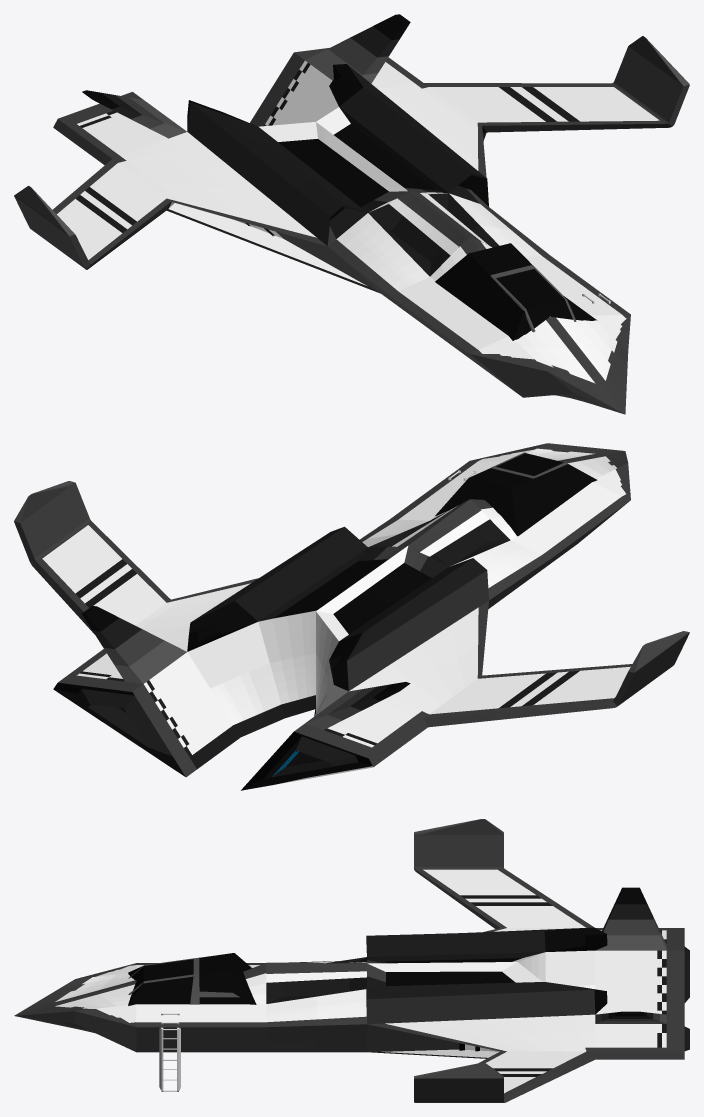
The model's file is Spaceship Textures.fbx.
3 views of the same model, one above another, from view 1: azimuth 30°, elevation 25°; view 2: azimuth 150°, elevation 25°; view 3: azimuth 270°, elevation 25° (orthographic). The views are drawn at different scales.
Parts seen in each view (by area): view 1: Cube, Cube.014, Cube.011; view 2: Cube, Cube.014; view 3: Cube, Cube.014, Cube.011.
Boxes of the visible parts, box(x1,y1,x2,y2) form: Cube: box(14, 14, 689, 414); Cube.014: box(435, 243, 597, 340); Cube.011: box(490, 265, 576, 332); Cube: box(14, 443, 689, 790); Cube.014: box(435, 453, 597, 536); Cube: box(14, 819, 689, 1102); Cube.014: box(128, 953, 256, 1005); Cube.011: box(128, 957, 239, 1004).
Bounding box in the file's own units: 2284 × 515 × 2647.
5 materials, 5 textured.
